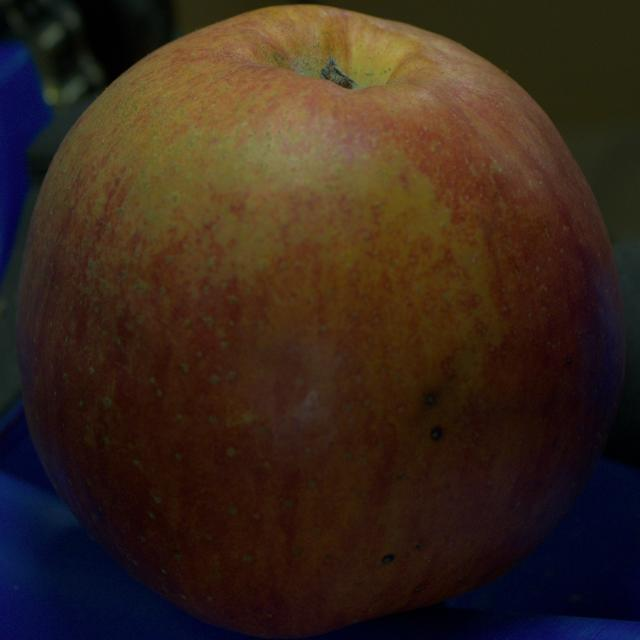apple: (16, 5, 624, 636)
pest: (431, 426, 442, 439), (382, 554, 394, 564), (426, 394, 434, 405)
